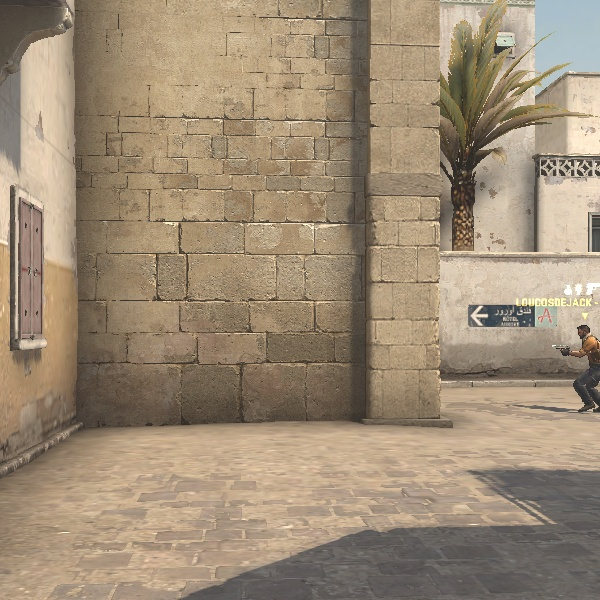t_body: (565, 316, 599, 413)
t_head: (574, 320, 593, 343)
